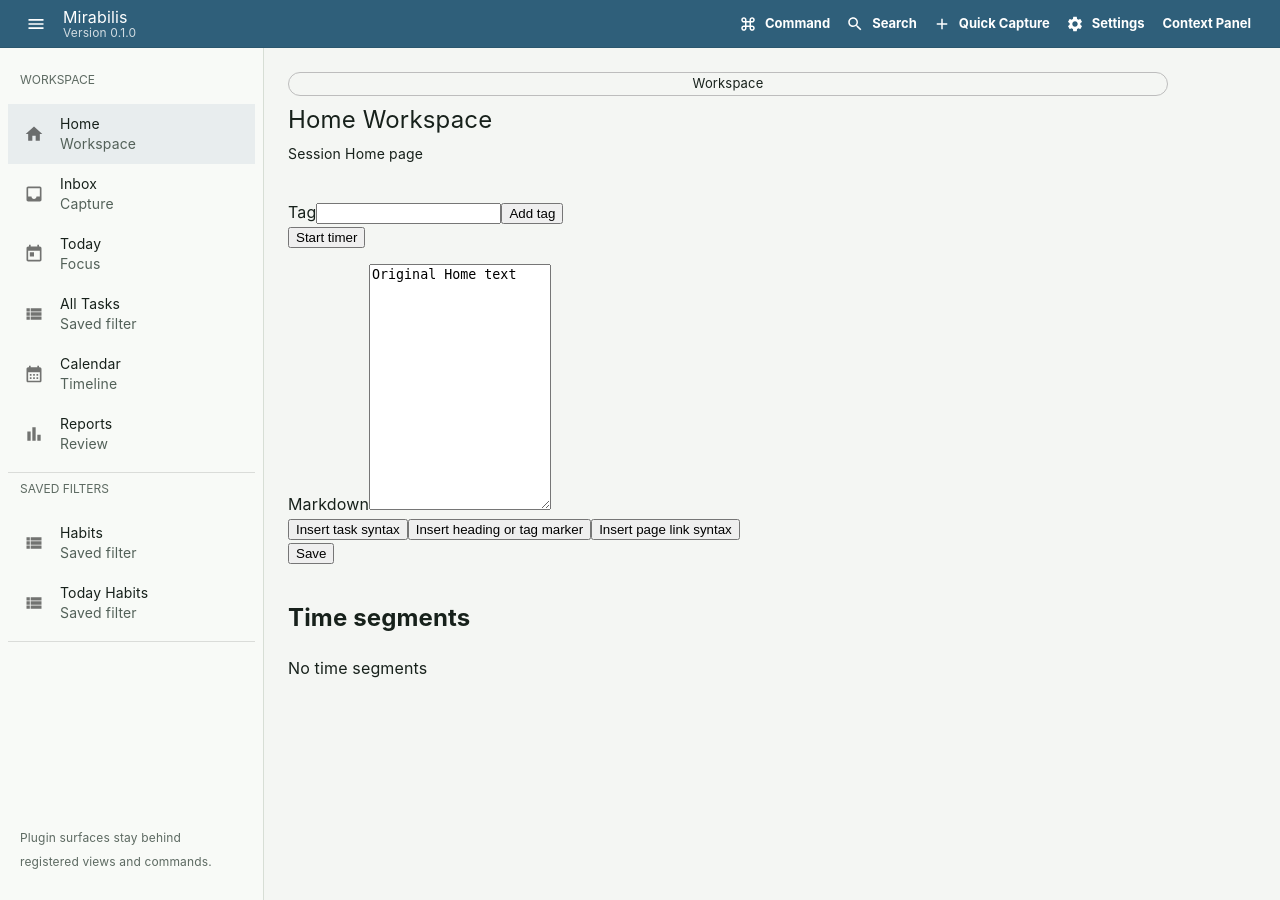
Scenario: TASK-037 Home workspace editor › ignores a stale toolbar insert after switching away from Home
Expected: the text box labelled "Markdown" holds "Original Home text", [369,264,551,510]
Click the button "Insert task syntax": (348, 530) [288,519,408,540]
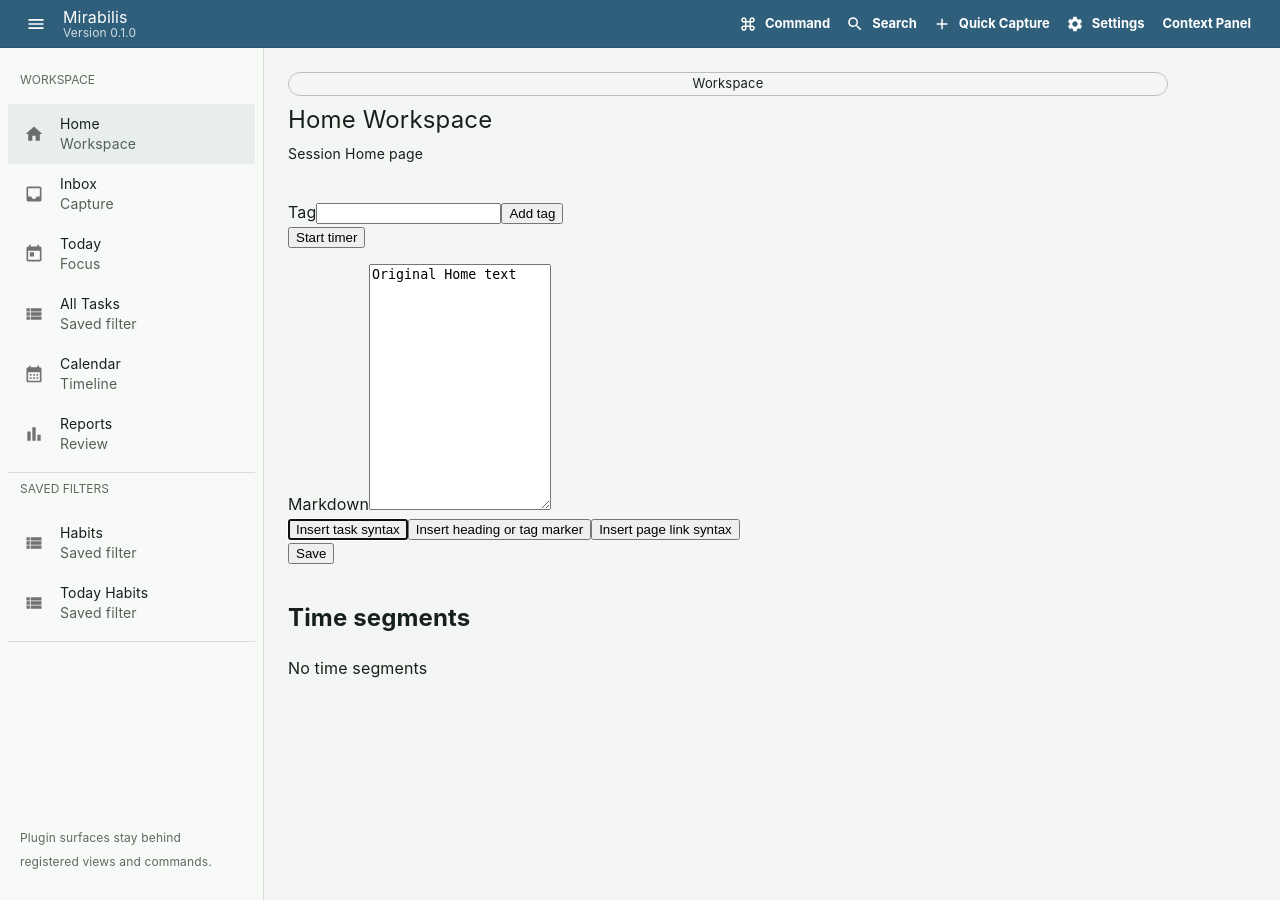
Click the button "Inbox Capture": (69, 193) [24,175,114,212]
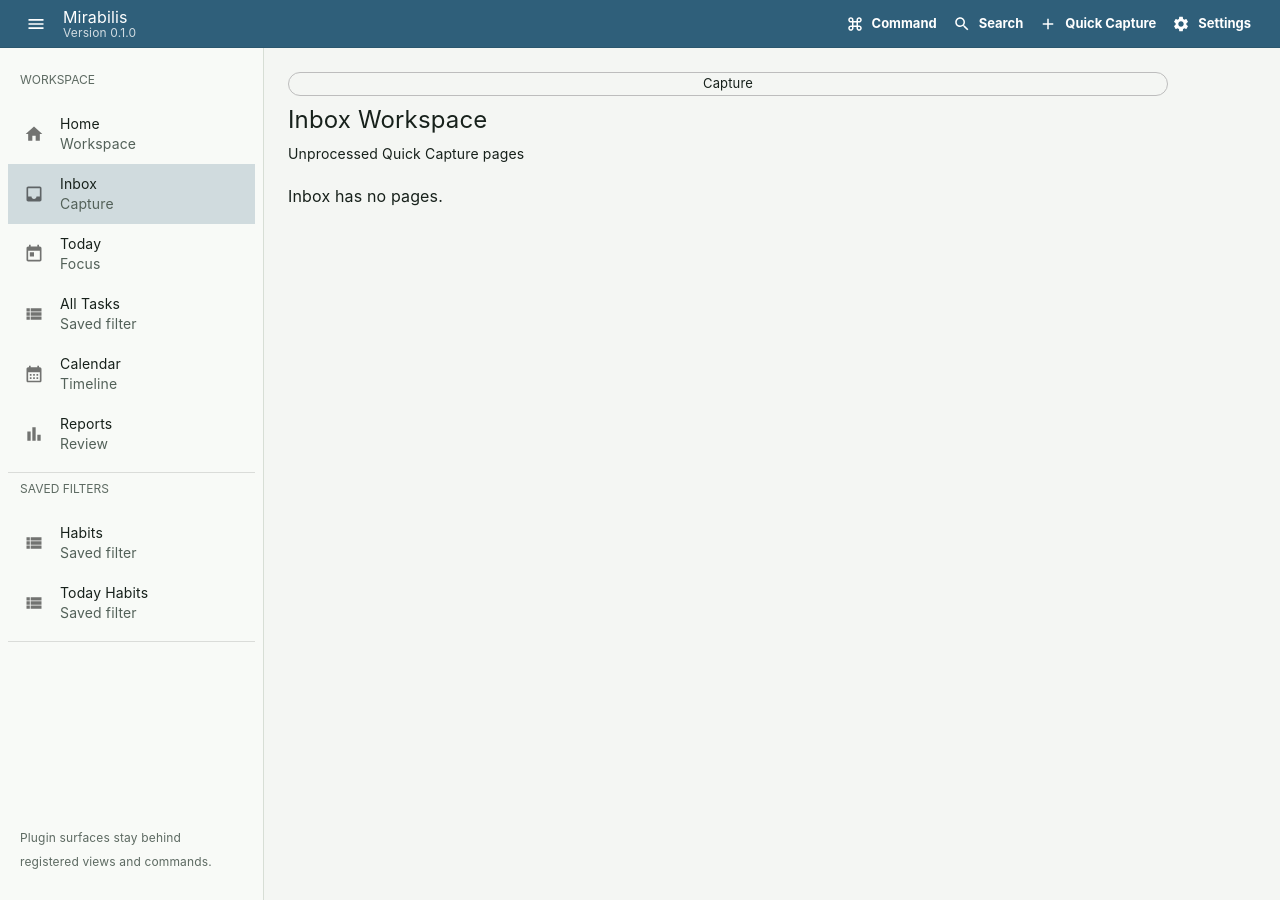
Expected: the element "Inbox" does not show "STALE OVERWRITE", [288,72,1168,206]
Expected: the label "Markdown" is gone
Click the button "Home Workspace": (80, 133) [24,115,136,152]
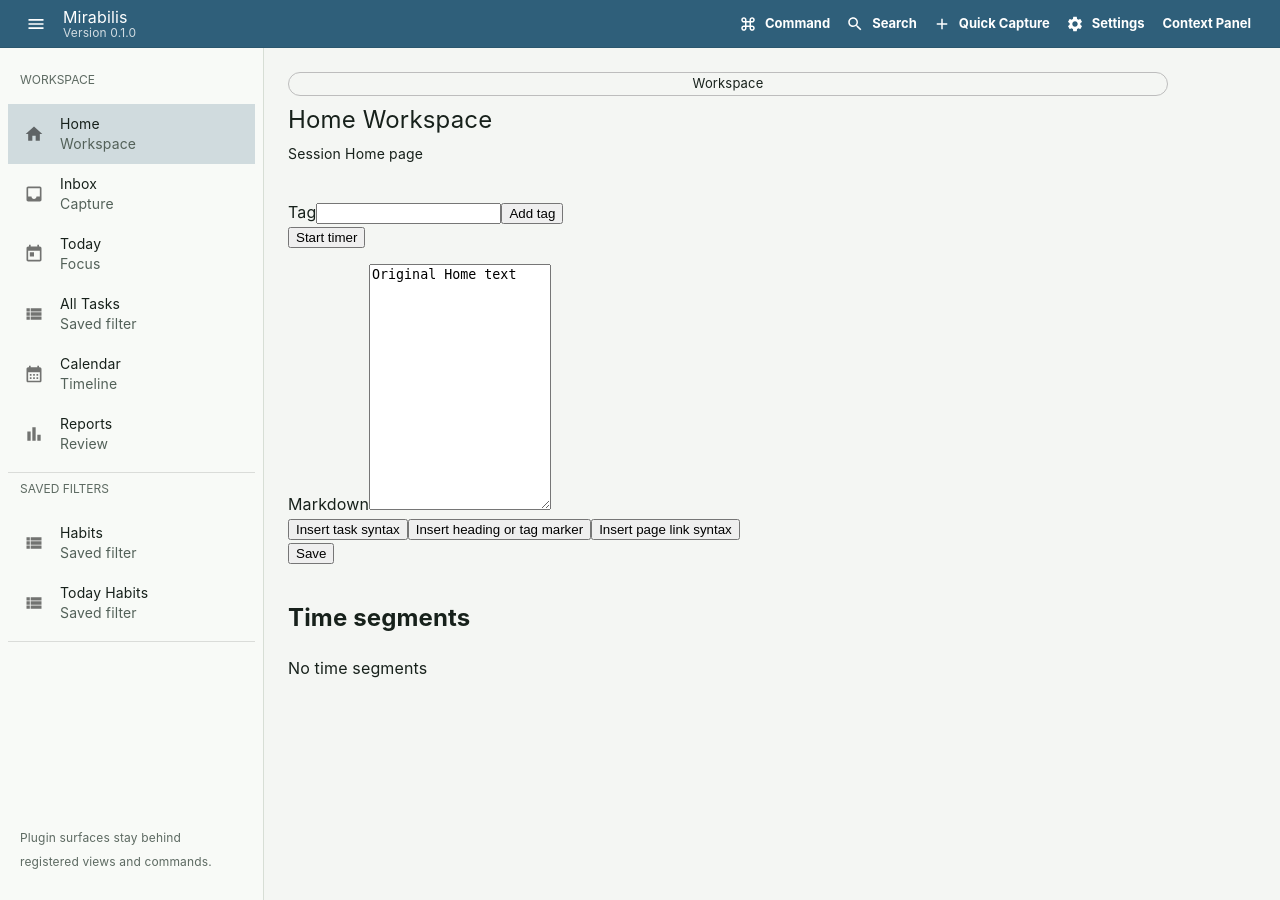
Expected: the text box labelled "Markdown" holds "Original Home text", [369,264,551,510]
